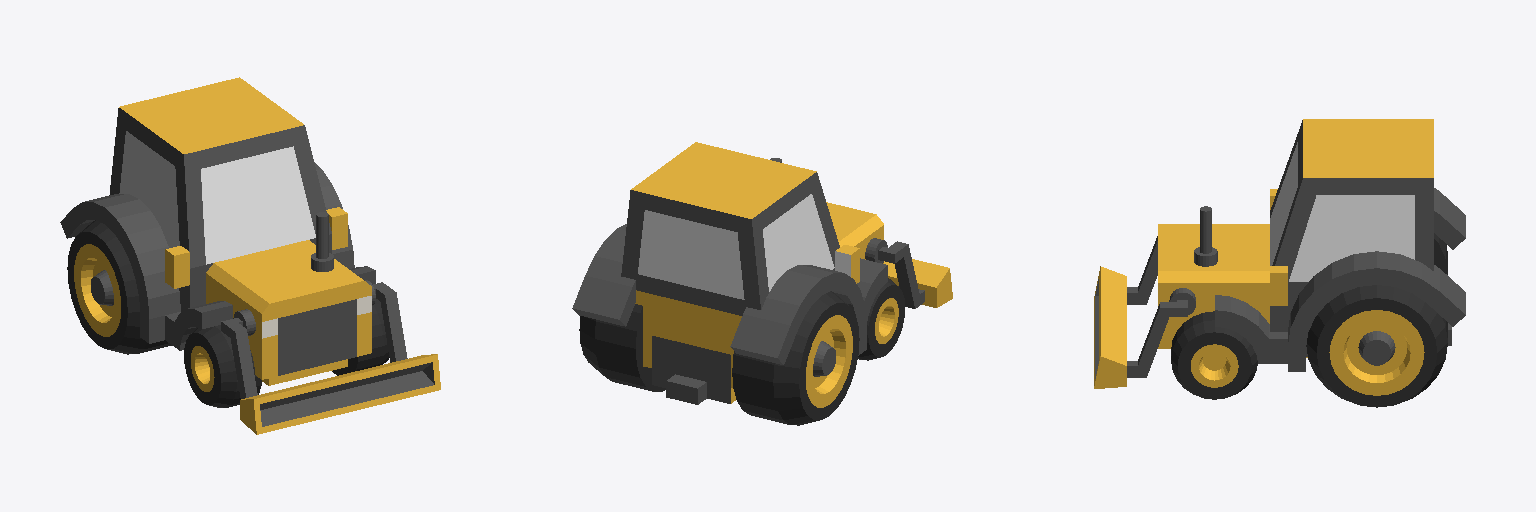
File: tractorShovel.obj
3 renders of one model, left to right at view 1: azimuth 30°, elevation 25°; view 2: azimuth 150°, elevation 25°; view 3: azimuth 270°, elevation 25°, orthographic.
Parts seen in each view (by area): view 1: body, shovel, skirts, wheel_backRight, wheel_frontRight, wheel_frontLeft; view 2: body, skirts, wheel_backRight, wheel_backLeft, shovel, wheel_frontRight; view 3: body, wheel_backLeft, skirts, shovel, wheel_frontLeft.
Part boxes in pixels (x1,y1,x2,y2): body: (109,77,371,385); shovel: (221,280,440,434); skirts: (60,162,375,350); wheel_backRight: (67,220,171,354); wheel_frontRight: (184,325,261,407); wheel_frontLeft: (332,299,389,375); body: (621,142,883,404); skirts: (572,224,887,364); wheel_backRight: (732,291,859,425); wheel_backLeft: (579,304,665,391); shovel: (865,238,952,308); wheel_frontRight: (858,278,904,360); body: (1158,119,1451,357); wheel_backLeft: (1306,285,1447,407); skirts: (1215,188,1465,371); shovel: (1094,236,1195,388); wheel_frontLeft: (1171,311,1257,399).
Size of the model in its own units: 61.44 by 57.56 by 90.14.